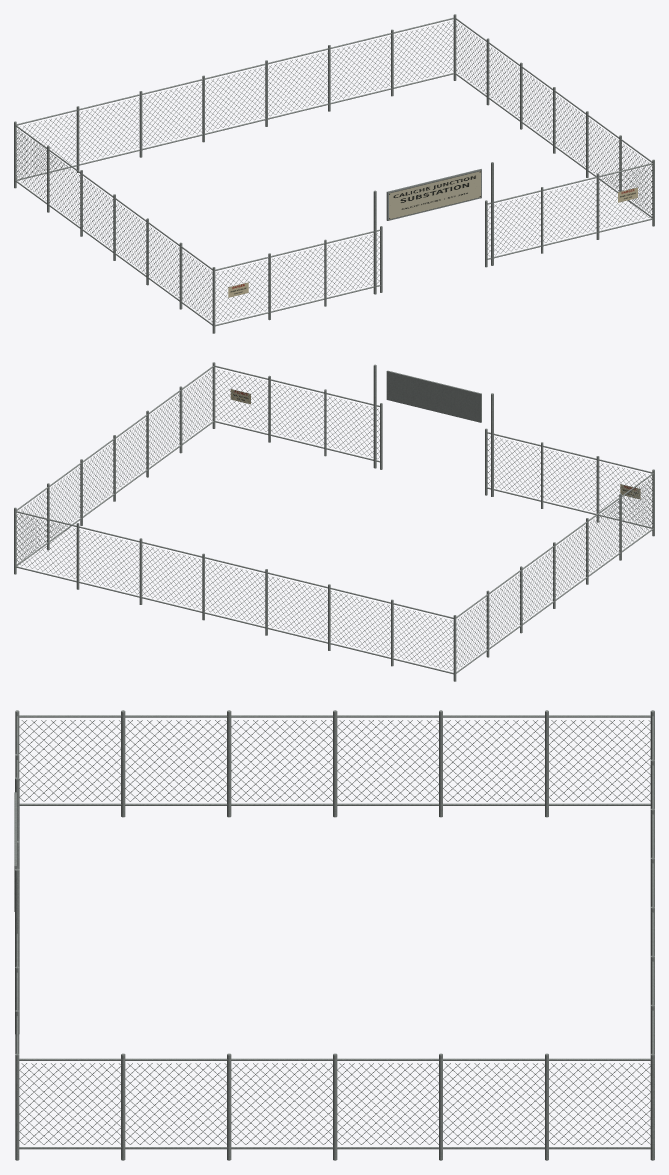
File: SM_Substation_Fence.glb
3 renders of one model, top to bottom at view 1: azimuth 30°, elevation 25°; view 2: azimuth 150°, elevation 25°; view 3: azimuth 270°, elevation 25°, orthographic. The views are drawn at different scales.
Visible parts, largest first — view 1: SM_Substation_Fence; view 2: SM_Substation_Fence; view 3: SM_Substation_Fence.
Part boxes in pixels (x1,y1,x2,y2): SM_Substation_Fence: (14,14,654,333); SM_Substation_Fence: (14,362,654,681); SM_Substation_Fence: (14,710,654,1160).
Bounding box in the file's own units: 18.5 × 4.1 × 14.52.
2 materials, 2 textured.
